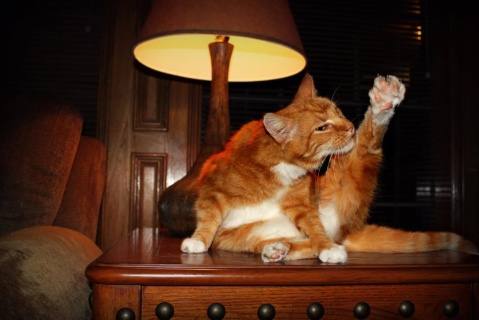Cat: (178, 73, 479, 263)
